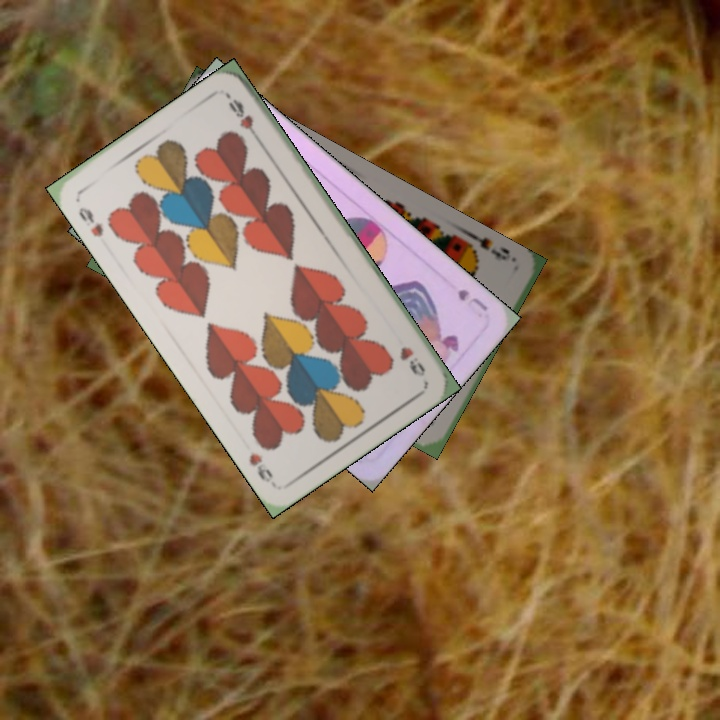H9: (395, 342, 428, 379), (74, 203, 107, 240)
S9: (460, 227, 518, 264)
SU: (453, 283, 491, 314)
